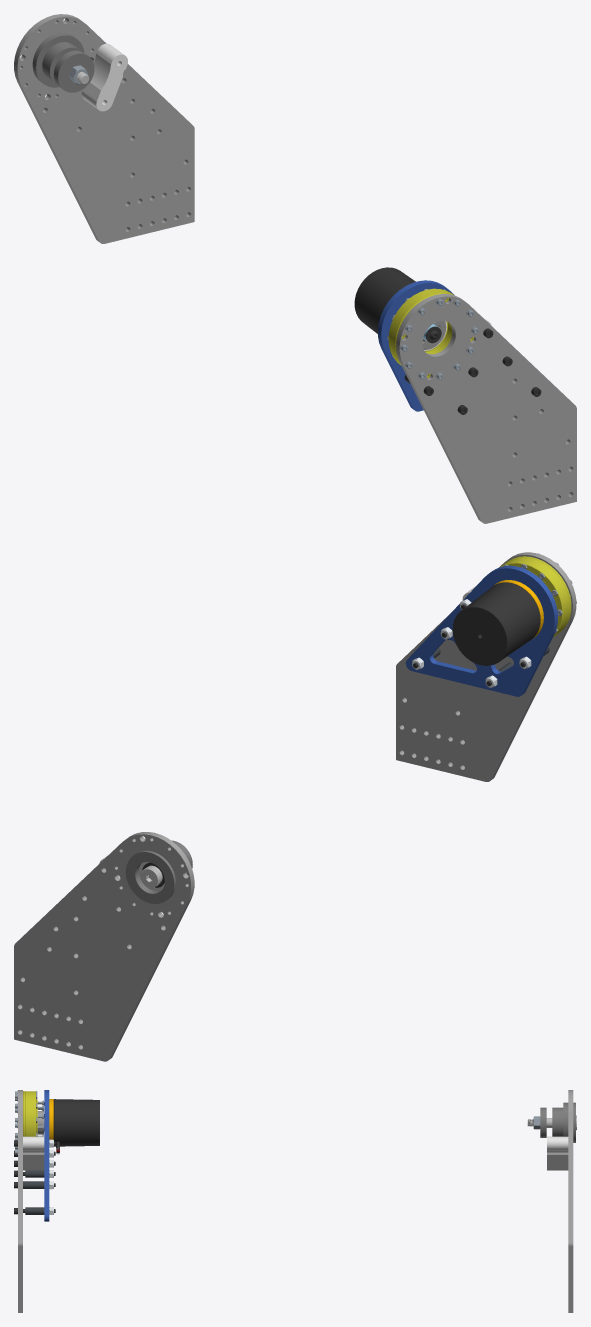
3 views of the same model, one above another, from view 1: azimuth 30°, elevation 25°; view 2: azimuth 150°, elevation 25°; view 3: azimuth 270°, elevation 25° (orthographic). The views are drawn at different scales.
Parts seen in each view (by area): view 1: 0206 mounted pivot plate (×2), NEO Brushless Motor V1.1, Part 24, 207 stabilizing plate, Part 28, harmonicpart, Part 30; view 2: 0206 mounted pivot plate (×2), 207 stabilizing plate, NEO Brushless Motor V1.1, Part 29, harmonicpart; view 3: 0206 mounted pivot plate (×2), NEO Brushless Motor V1.1, Part 24 (×2), 207 stabilizing plate, harmonicpart, Part 28.
Part boxes in pixels (bbox=[...]): 0206 mounted pivot plate (×2): bbox=[14, 14, 576, 523]; NEO Brushless Motor V1.1: bbox=[354, 267, 415, 333]; Part 24: bbox=[81, 43, 127, 111]; 207 stabilizing plate: bbox=[378, 280, 453, 411]; Part 28: bbox=[32, 33, 84, 87]; harmonicpart: bbox=[388, 288, 473, 378]; Part 30: bbox=[53, 50, 94, 92]; 0206 mounted pivot plate (×2): bbox=[14, 552, 576, 1061]; 207 stabilizing plate: bbox=[405, 565, 557, 696]; NEO Brushless Motor V1.1: bbox=[452, 582, 540, 665]; Part 29: bbox=[125, 850, 175, 903]; harmonicpart: bbox=[500, 556, 571, 637]; 0206 mounted pivot plate (×2): bbox=[18, 1090, 573, 1312]; NEO Brushless Motor V1.1: bbox=[53, 1099, 99, 1154]; Part 24 (×2): bbox=[23, 1136, 568, 1170]; 207 stabilizing plate: bbox=[44, 1090, 49, 1221]; harmonicpart: bbox=[23, 1091, 37, 1136]; Part 28: bbox=[552, 1102, 568, 1136].
Bounding box in the file's own units: 0.1853 × 0.2377 × 0.7079.
